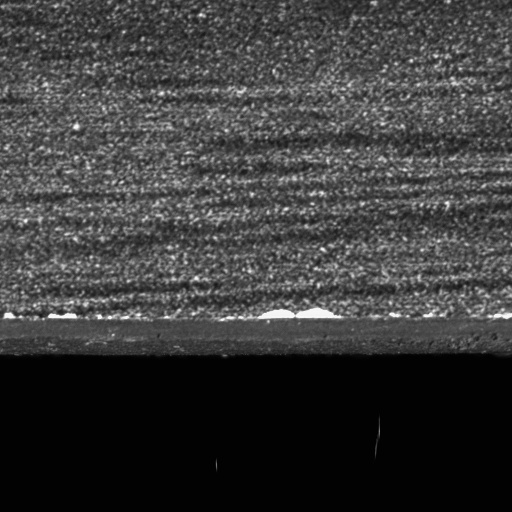huashang: (259, 305, 342, 318)
